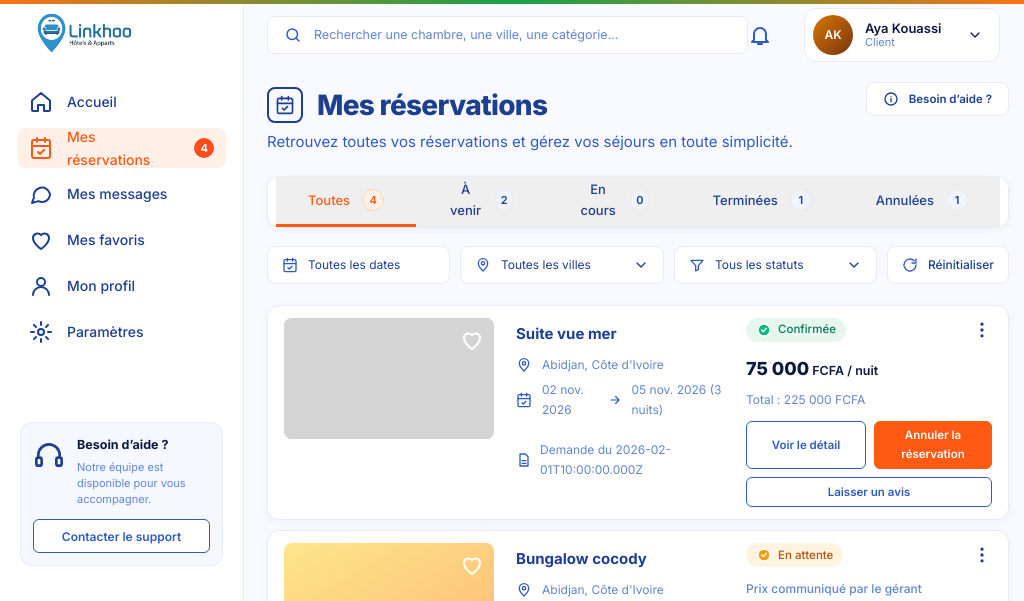
Test: ClientComptePage — vues › bascule sur la vue profil et change le titre
What coordinates should you click on to do the following:
click the link "Mon profil"
I would click on:
 (82, 286)
Its box is [29,274,135,298].
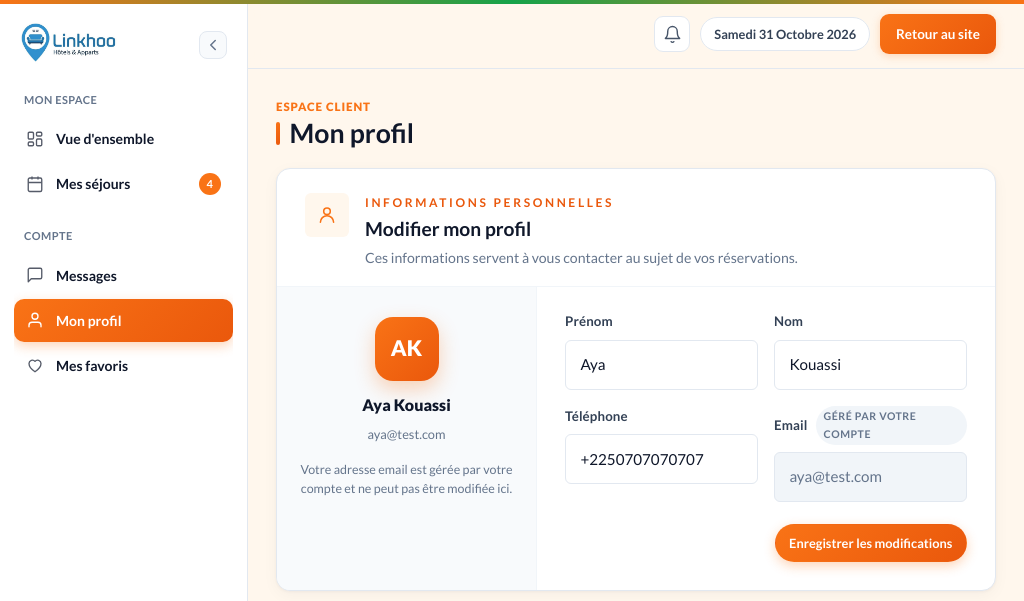
expect the heading "Mon profil" is shown: met, box [276,119,414,148]
